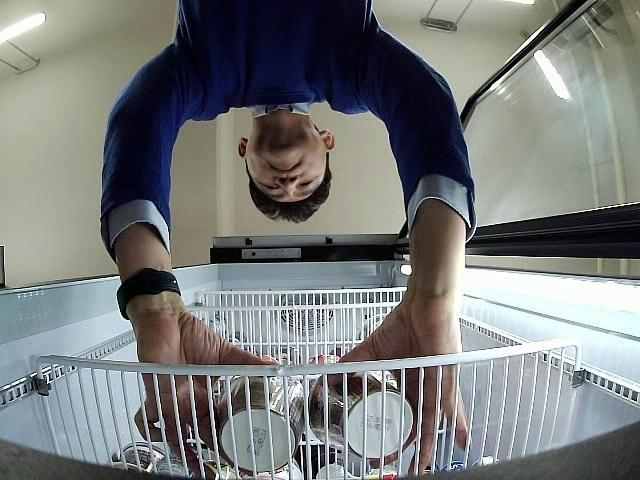04_chapagetti_S: (308, 371, 412, 460), (216, 375, 306, 471)
